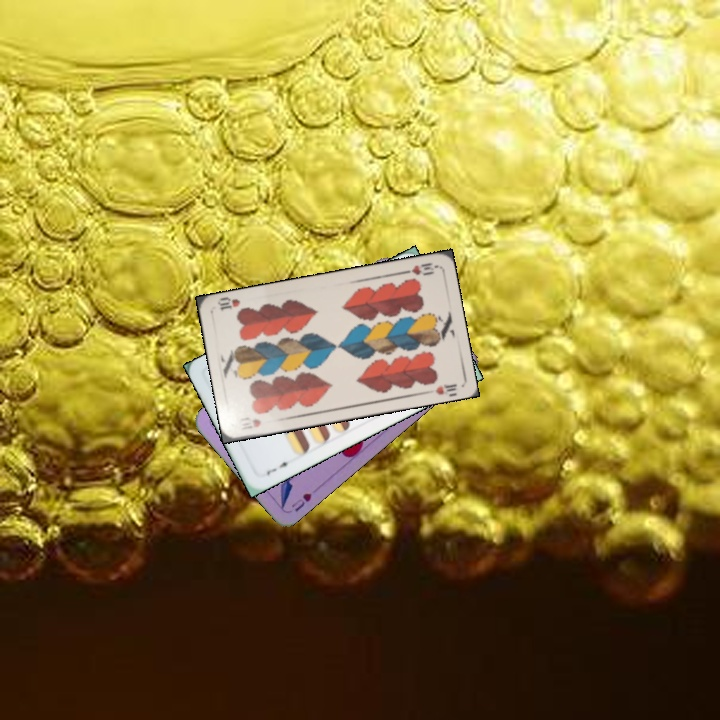E7: (262, 457, 295, 478)
H10: (398, 258, 438, 278), (237, 415, 263, 432)
HU: (287, 489, 314, 514)
